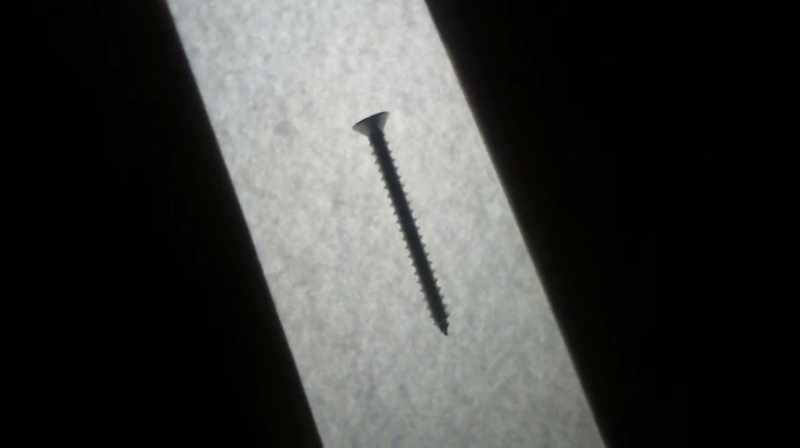S002: (348, 108, 451, 338)
